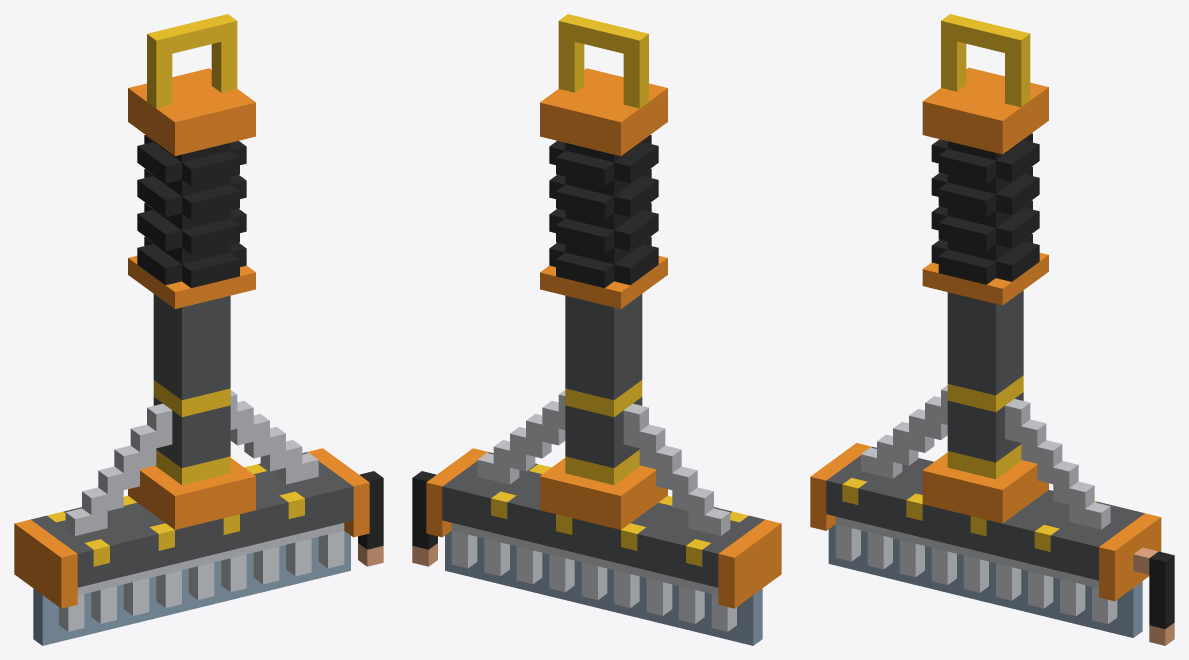
The model's file is Anti-Static Brush.glb.
3 renders of one model, left to right at view 1: azimuth 30°, elevation 25°; view 2: azimuth 150°, elevation 25°; view 3: azimuth 330°, elevation 25°, orthographic.
Parts seen in each view (by area): view 1: Escobilla_Antiestatica_Voxel; view 2: Escobilla_Antiestatica_Voxel; view 3: Escobilla_Antiestatica_Voxel.
Part boxes in pixels (x1,y1,x2,y2): Escobilla_Antiestatica_Voxel: [14, 14, 383, 645]; Escobilla_Antiestatica_Voxel: [412, 14, 781, 645]; Escobilla_Antiestatica_Voxel: [810, 14, 1174, 645].
Bounding box in the file's own units: 2.1 × 3.4 × 0.5.
